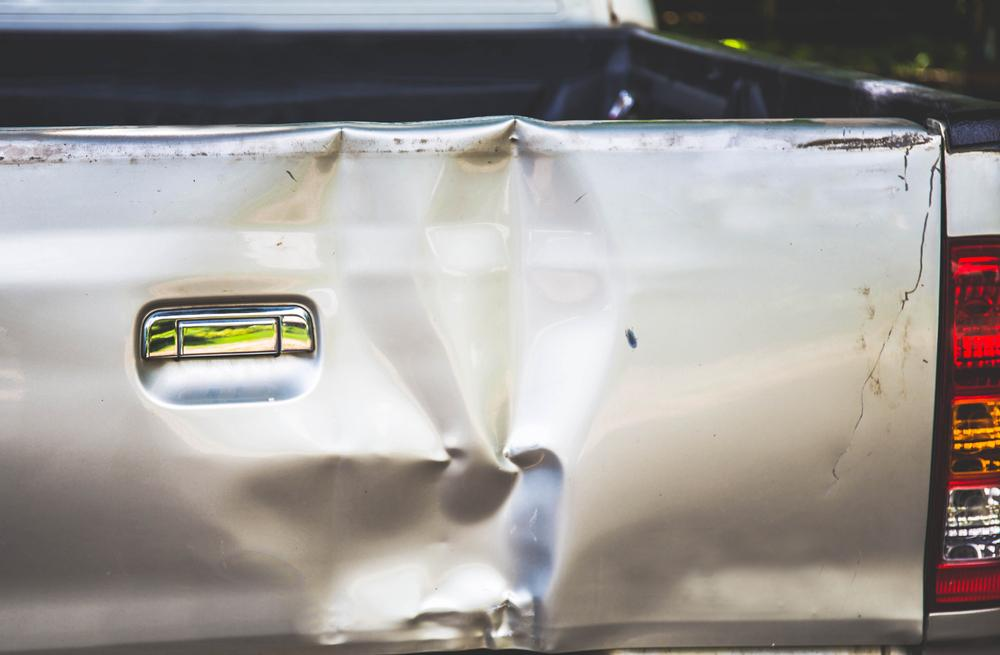crack: (829, 153, 943, 485)
dent: (204, 113, 619, 655)
